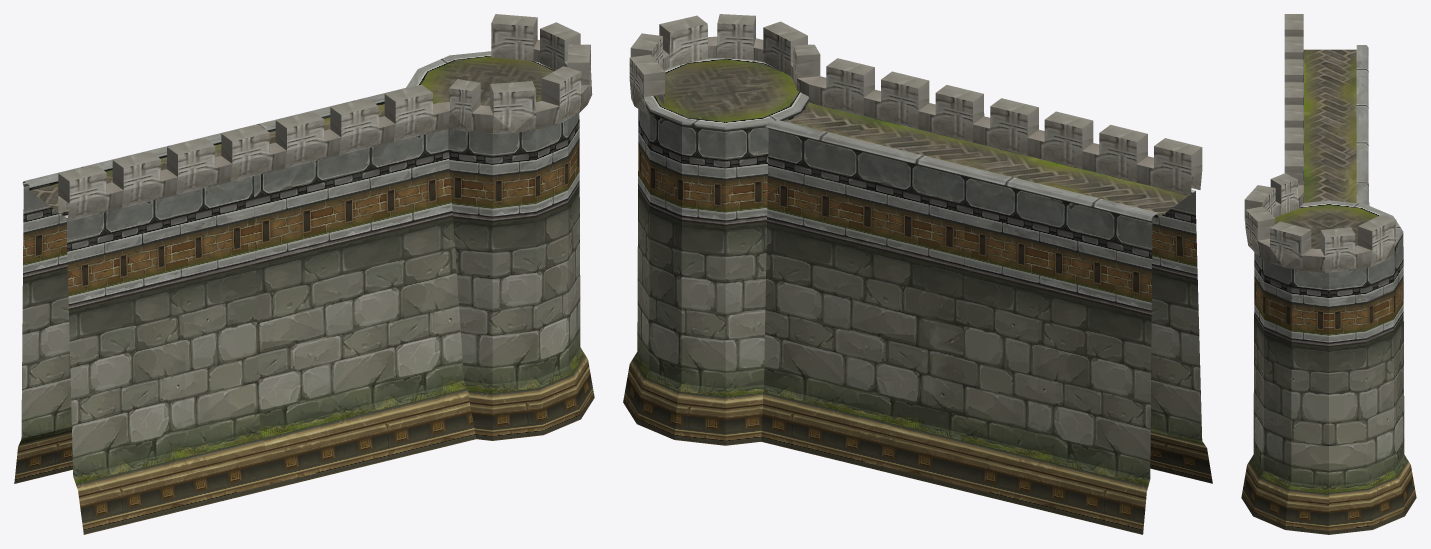
File: DN_mcwall01.FBX
3 views of the same model, side by side, from view 1: azimuth 30°, elevation 25°; view 2: azimuth 150°, elevation 25°; view 3: azimuth 270°, elevation 25° (orthographic). The views are drawn at different scales.
Visible parts, largest first — view 1: DN_mcwall01; view 2: DN_mcwall01; view 3: DN_mcwall01.
Boxes of the visible parts, x1,y1,x2,y2 form: DN_mcwall01: (14, 14, 594, 534); DN_mcwall01: (623, 14, 1212, 534); DN_mcwall01: (1241, 14, 1416, 534).
Bounding box in the file's own units: 2144 × 1315 × 706.
1 material, 1 textured.
